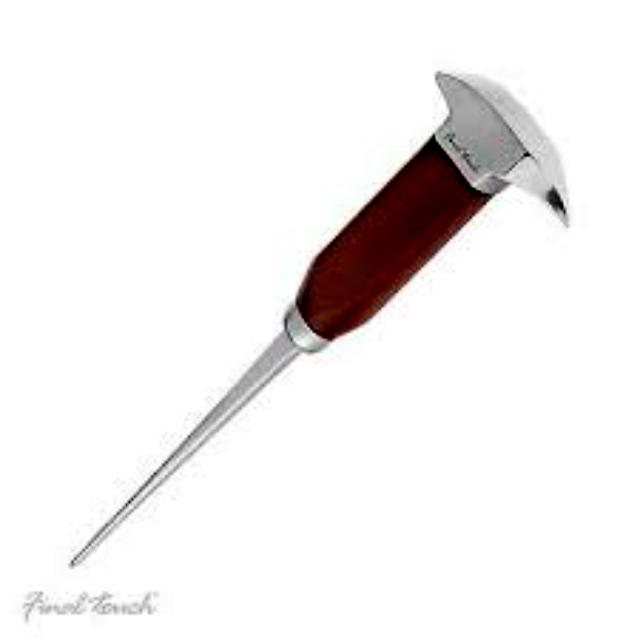ice pick: (66, 45, 582, 578)
